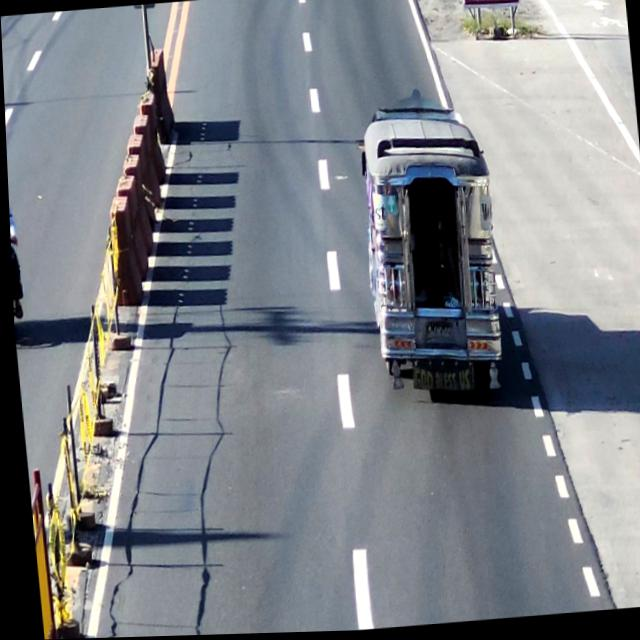Jeep: (354, 105, 511, 413)
License-Plate: (418, 318, 456, 352)
